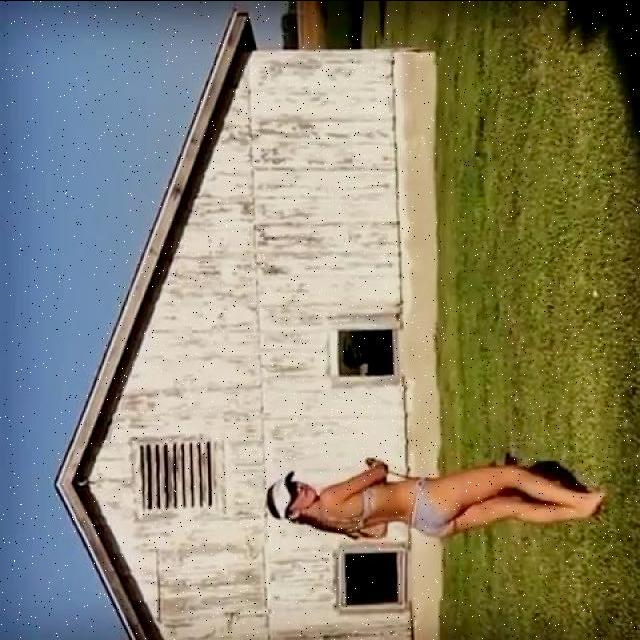golf club-handle: (367, 455, 415, 481)
